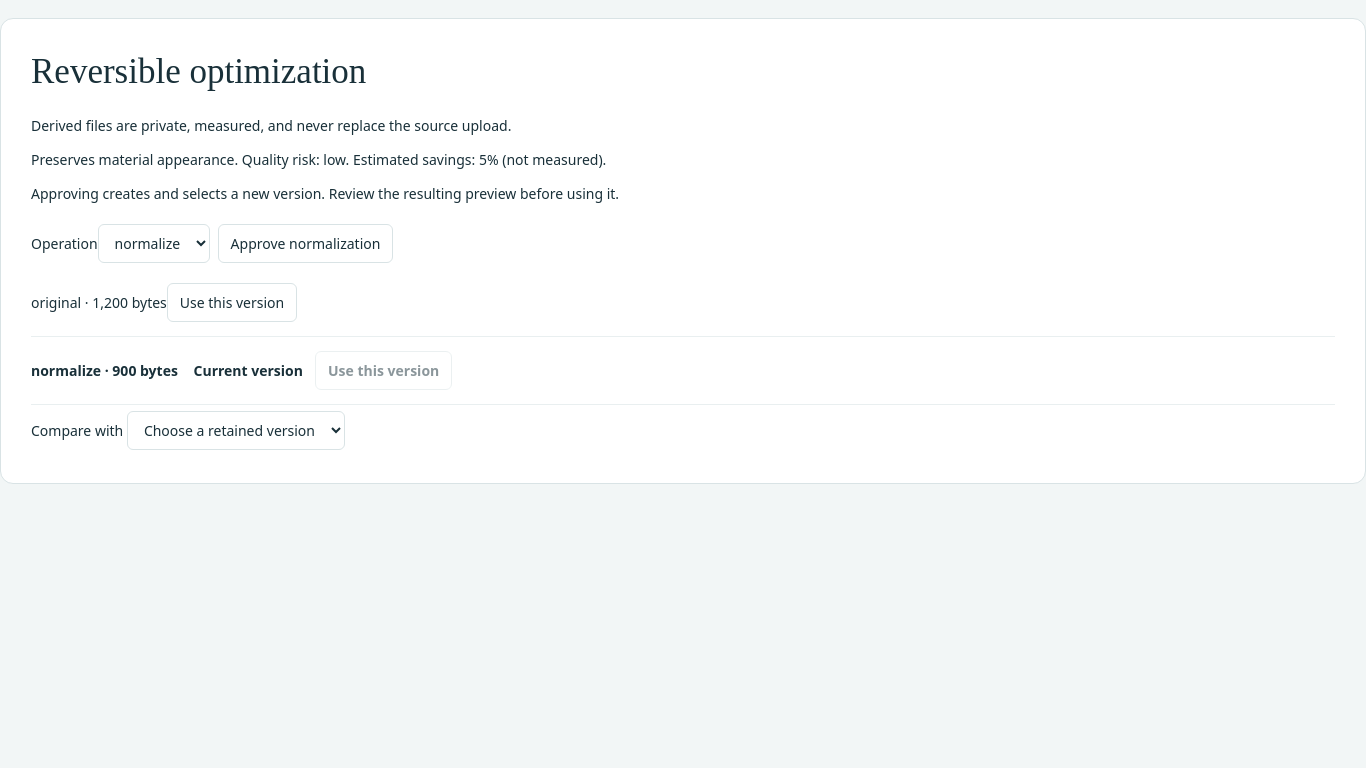
Test: shows saved current version, measured comparison, and approval risks
Check: the text "Quality risk: low" is shown, box [31,150,606,169]
Select "original — version 1" in the dropdown labelled "Compare with" at (236, 430), box [127,411,345,450]
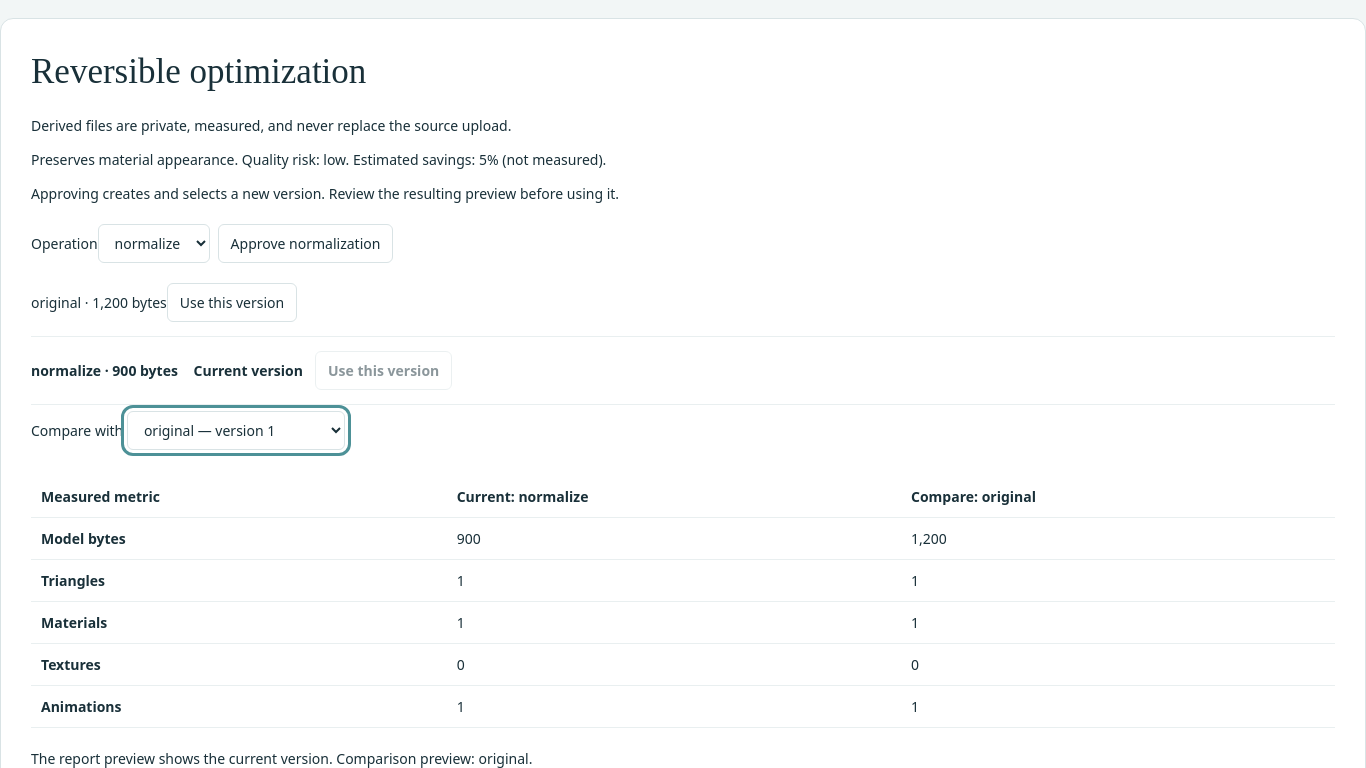
Check: the text "1,200" is shown, box [901,517,1335,559]
Check: the text "900" is shown, box [447,517,901,559]
